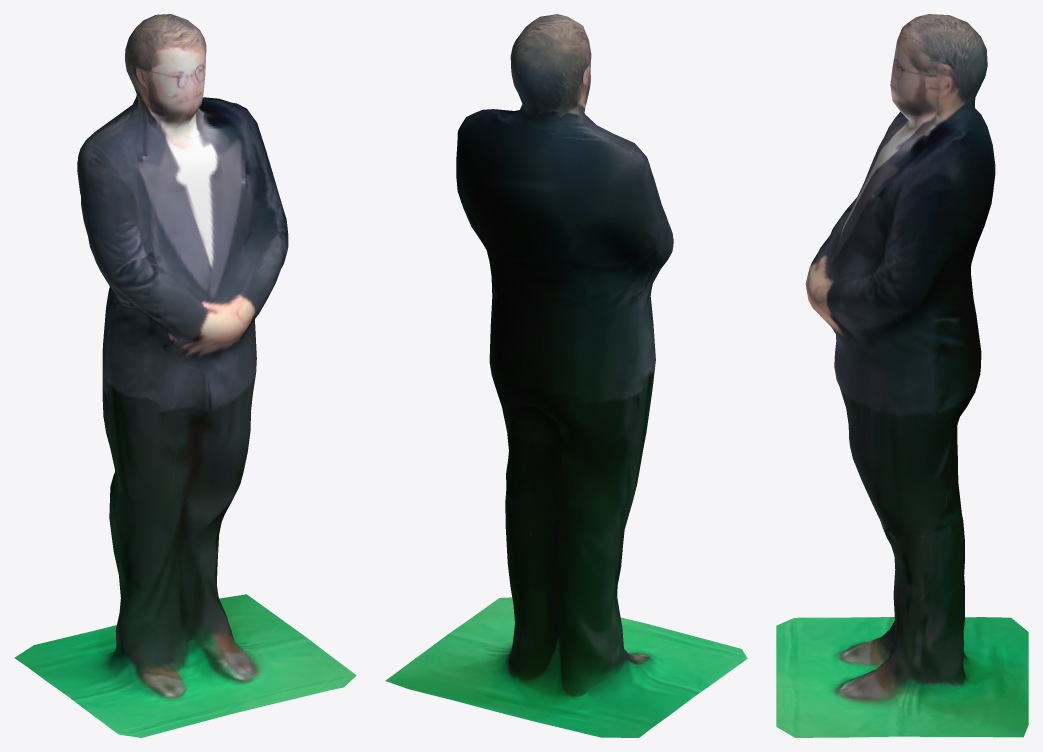
Rendered from bergischerloewe.glb.
The picture shows the model from 3 angles, left to right: view 1: azimuth 30°, elevation 25°; view 2: azimuth 150°, elevation 25°; view 3: azimuth 270°, elevation 25°; orthographic projection. The views are drawn at different scales.
Parts seen in each view (by area): view 1: node_8a0df650_8527_40e9_b686_f69d2c9ea862_mesh0; view 2: node_8a0df650_8527_40e9_b686_f69d2c9ea862_mesh0; view 3: node_8a0df650_8527_40e9_b686_f69d2c9ea862_mesh0.
Boxes of the visible parts, bbox=[...] form: node_8a0df650_8527_40e9_b686_f69d2c9ea862_mesh0: bbox=[14, 14, 356, 737]; node_8a0df650_8527_40e9_b686_f69d2c9ea862_mesh0: bbox=[385, 14, 747, 737]; node_8a0df650_8527_40e9_b686_f69d2c9ea862_mesh0: bbox=[776, 14, 1028, 737].
Size of the model in its own units: 0.7391 by 1.88 by 0.6531.
Materials: 1 (1 with a texture image).
